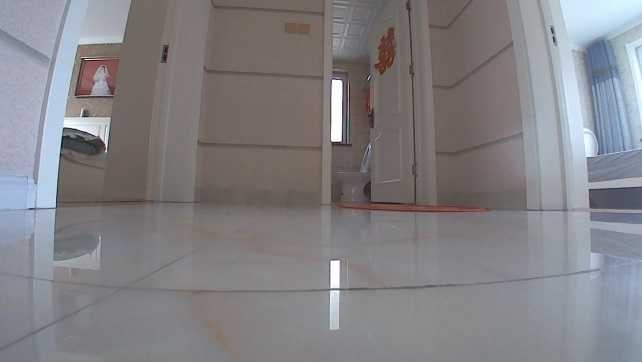bed: (54, 113, 109, 202)
blanket: (333, 200, 493, 215)
door_anno: (366, 0, 436, 202)
toilet: (333, 139, 372, 203)
